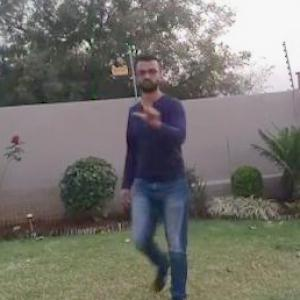land_hand: (132, 93, 162, 124)
